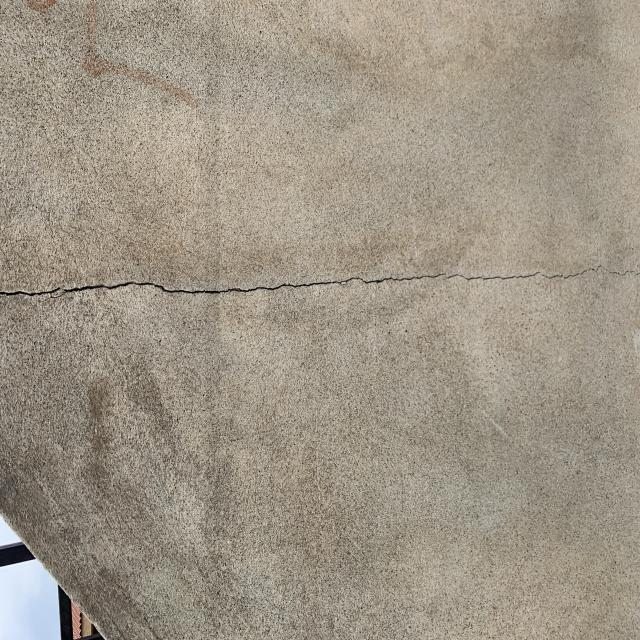horizontal crack: (4, 260, 640, 359)
